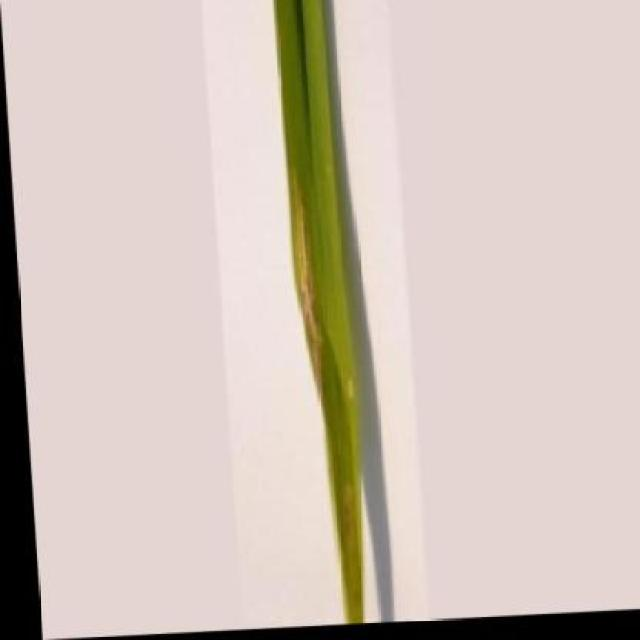Brown_Spot: (264, 0, 371, 629)
